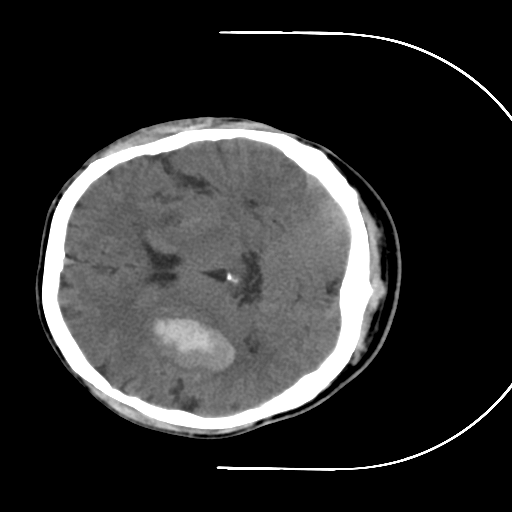a: (124, 294, 251, 389)
